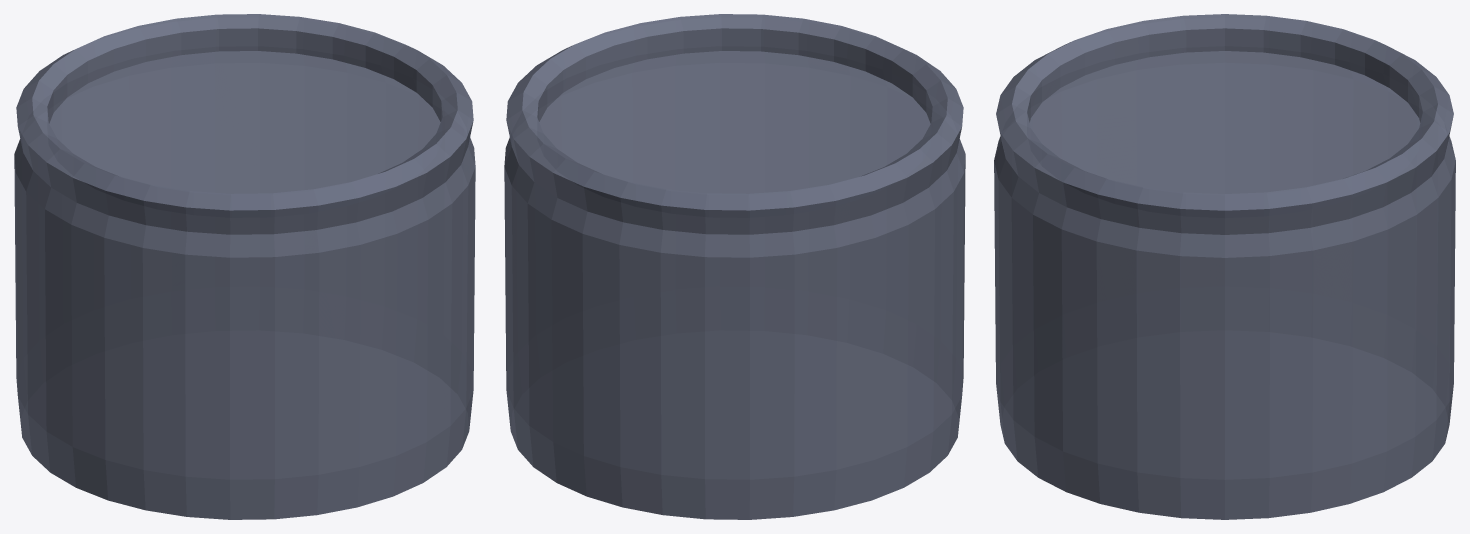
The model's file is jar.glb.
3 renders of one model, left to right at view 1: azimuth 30°, elevation 25°; view 2: azimuth 150°, elevation 25°; view 3: azimuth 270°, elevation 25°, orthographic.
Parts seen in each view (by area): view 1: Cylinder; view 2: Cylinder; view 3: Cylinder.
Boxes of the visible parts, x1,y1,x2,y2 form: Cylinder: (14,14,475,519); Cylinder: (504,14,965,519); Cylinder: (994,14,1455,519).
Size of the model in its own units: 9.87 by 7.57 by 9.87.
